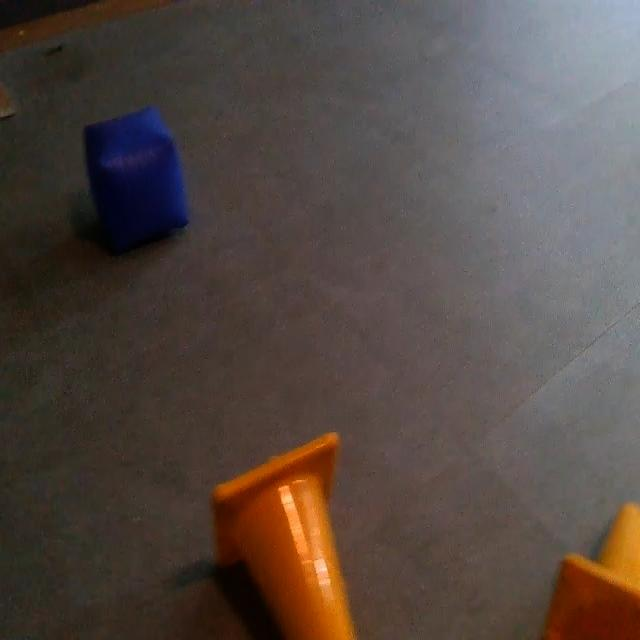cone: (210, 428, 360, 640), (538, 499, 639, 640)
cube: (86, 108, 190, 260)
